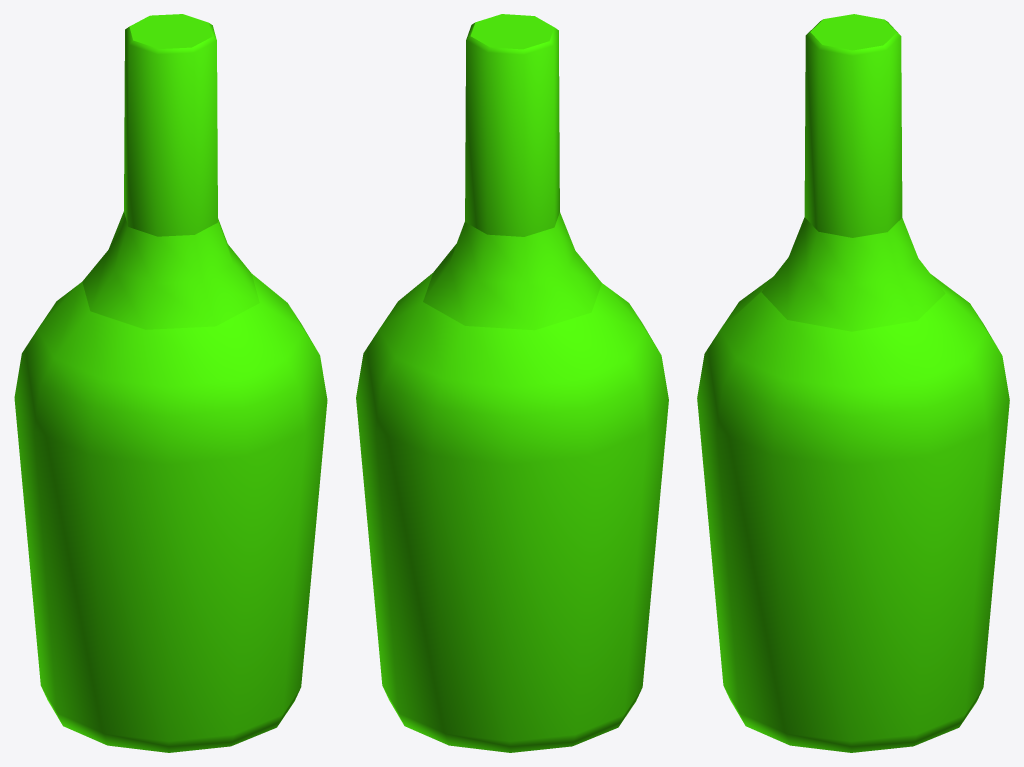
Rendered from 20_baileys.gltf.
The picture shows the model from 3 angles, left to right: view 1: azimuth 30°, elevation 25°; view 2: azimuth 150°, elevation 25°; view 3: azimuth 270°, elevation 25°; orthographic projection.
Parts seen in each view (by area): view 1: Baileys_Atlas_0; view 2: Baileys_Atlas_0; view 3: Baileys_Atlas_0.
Boxes of the visible parts, <box> form: Baileys_Atlas_0: <box>14,14,327,752</box>; Baileys_Atlas_0: <box>356,14,668,752</box>; Baileys_Atlas_0: <box>697,14,1009,752</box>.
Size of the model in its own units: 9.59 by 22.77 by 9.59.
1 material, 1 textured.
